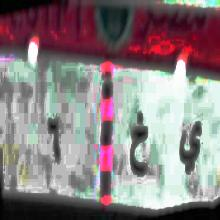6: (39, 118, 71, 163)
khaa: (124, 111, 152, 184)
yaa: (176, 115, 203, 175)
